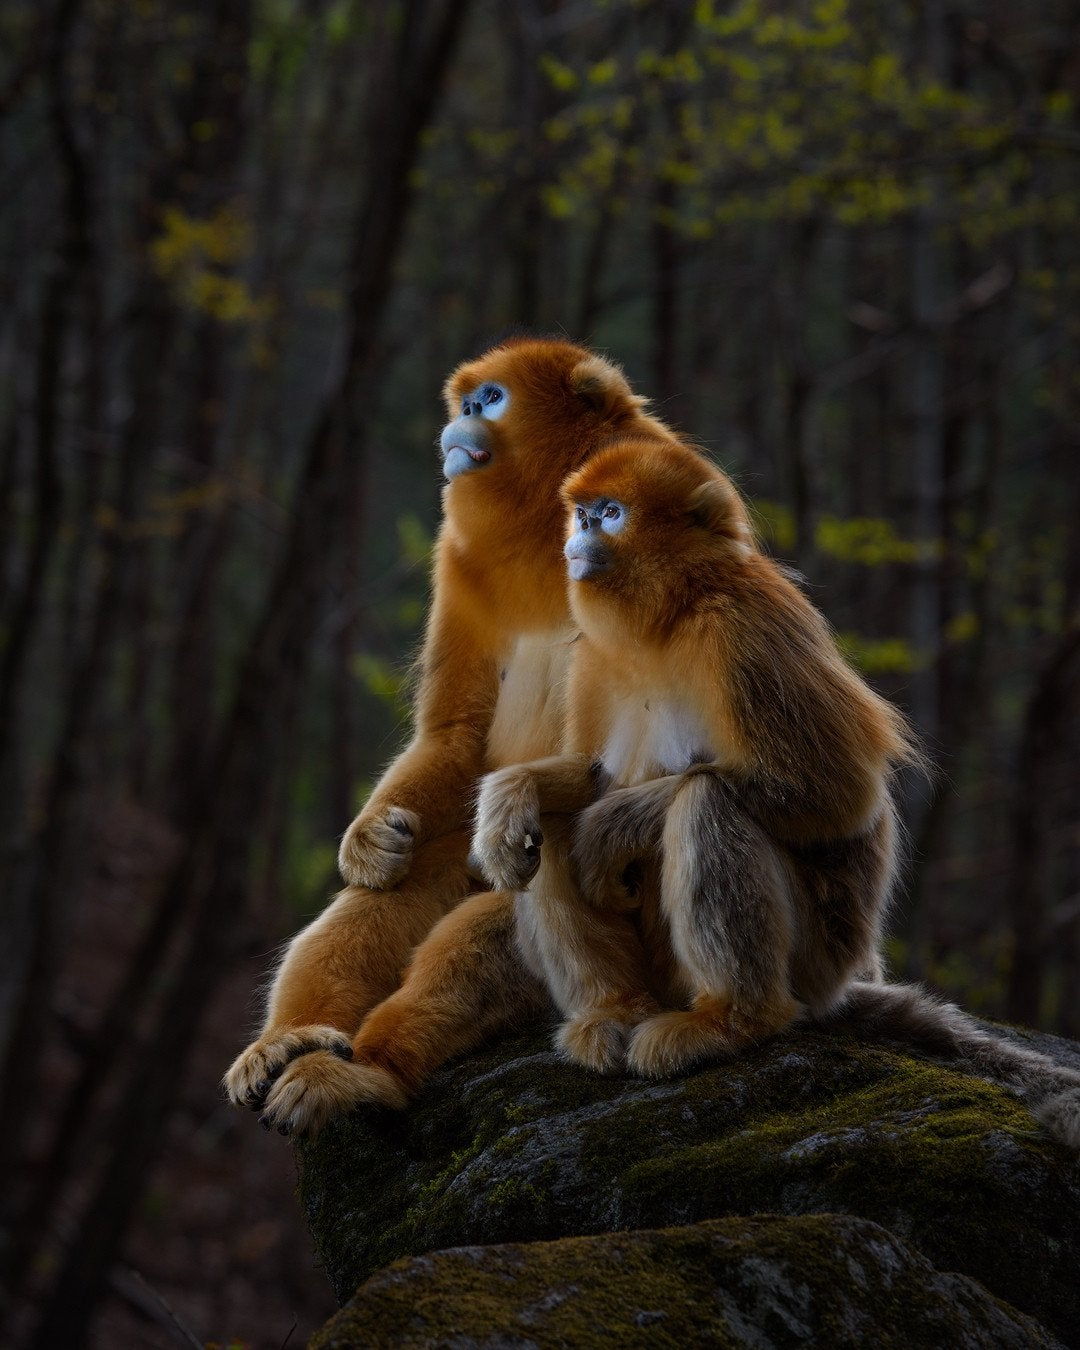GoldenSnub-Nosed: (266, 306, 704, 1142), (538, 452, 873, 1017)
